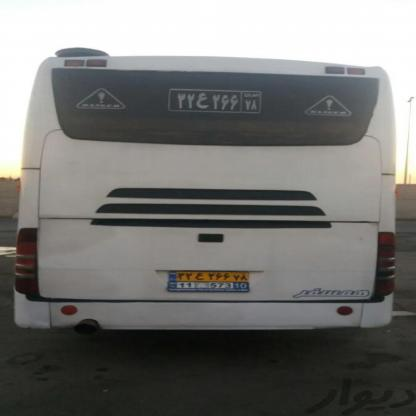Bus: (0, 50, 416, 340)
